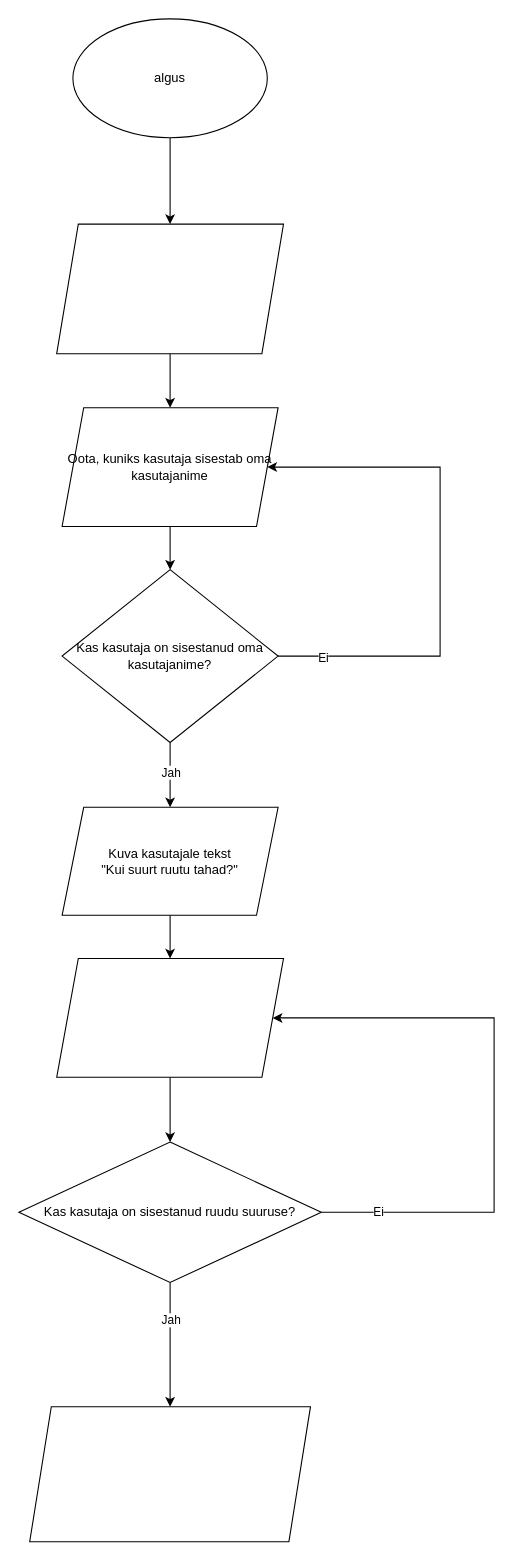
The diagram is 522 pixels wide and 1561 high, and some of its shapes have lost their labels. Each missing label, with the centre of its shape:
Kuva kasutajale tekst "Palun sisesta oma kasutajanimi": (170,288)
Oota, kuni kasutaja sisestab ruudu suuruse: (170,1017)
